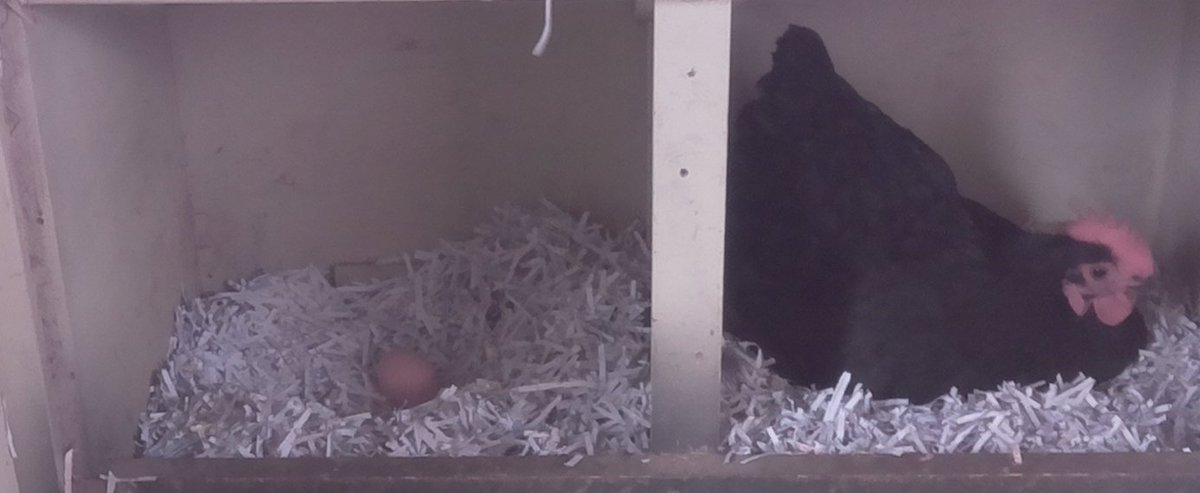egg: (368, 345, 446, 409)
hen: (742, 18, 1167, 405)
